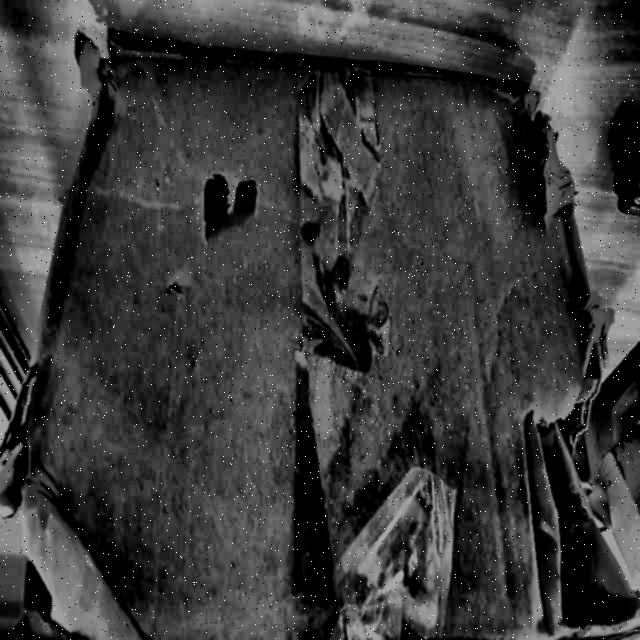box: (4, 16, 639, 640)
hole: (529, 339, 635, 640), (12, 376, 49, 640), (520, 81, 578, 228), (197, 160, 263, 251)
